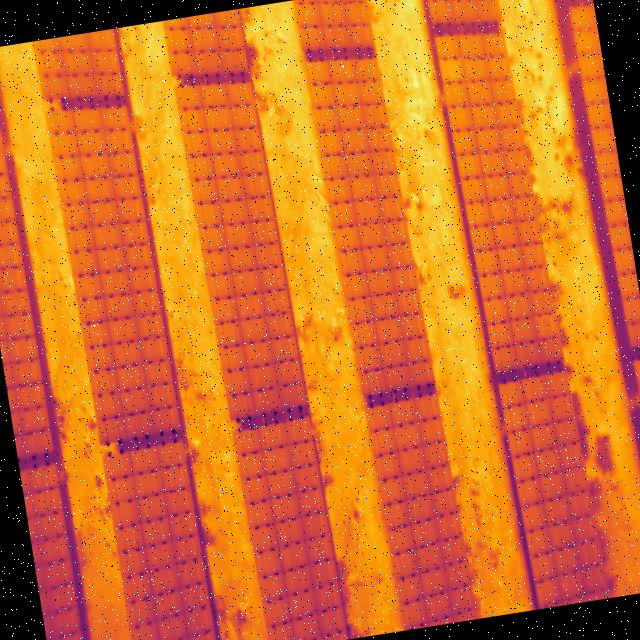Hotspot: (439, 57, 466, 82)
